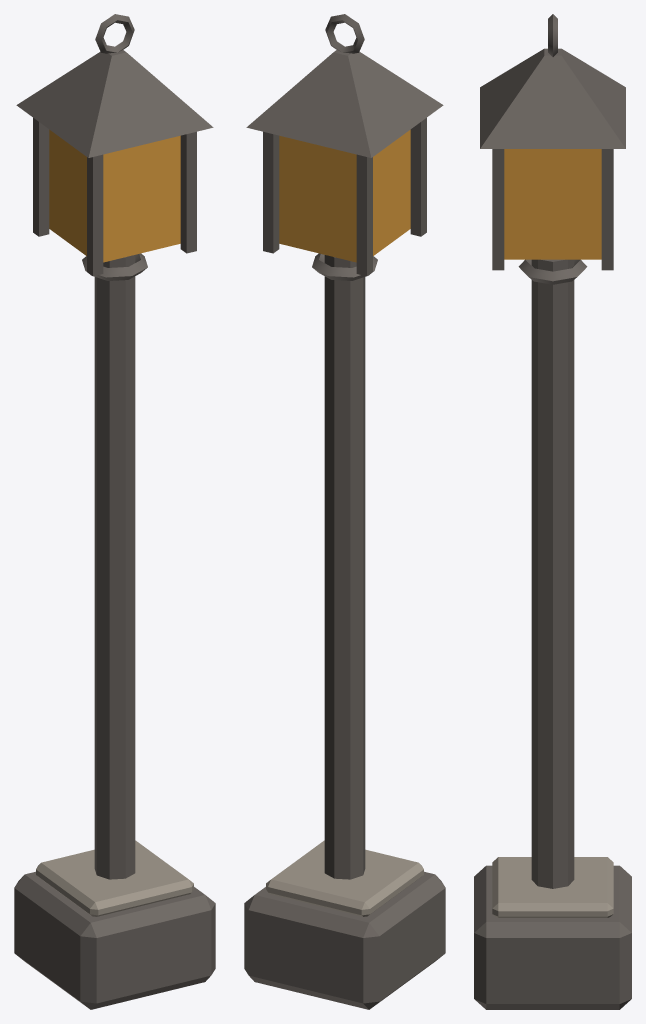
The model's file is PR_Decor_BahceFeneri.fbx.
3 renders of one model, left to right at view 1: azimuth 30°, elevation 25°; view 2: azimuth 150°, elevation 25°; view 3: azimuth 270°, elevation 25°, orthographic.
Visible parts, largest first — view 1: PR_Decor_BahceFeneri; view 2: PR_Decor_BahceFeneri; view 3: PR_Decor_BahceFeneri.
Boxes of the visible parts, left/top/right/bottom form: PR_Decor_BahceFeneri: left=14, top=14, right=215, bottom=1009; PR_Decor_BahceFeneri: left=244, top=14, right=445, bottom=1009; PR_Decor_BahceFeneri: left=474, top=14, right=631, bottom=1009.
Size of the model in its own units: 0.26 by 1.76 by 0.26.
1 material, 1 textured.
